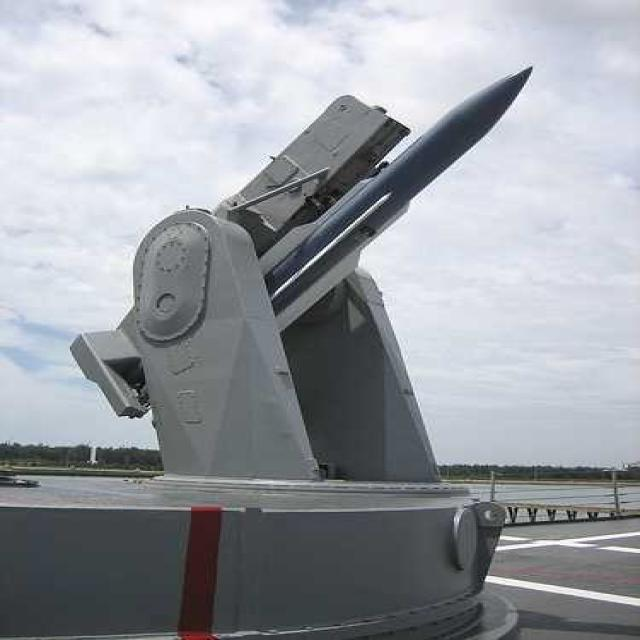missile: (132, 64, 541, 397)
